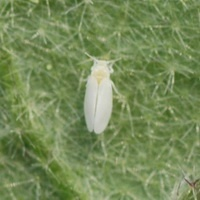insect: (84, 55, 112, 133)
